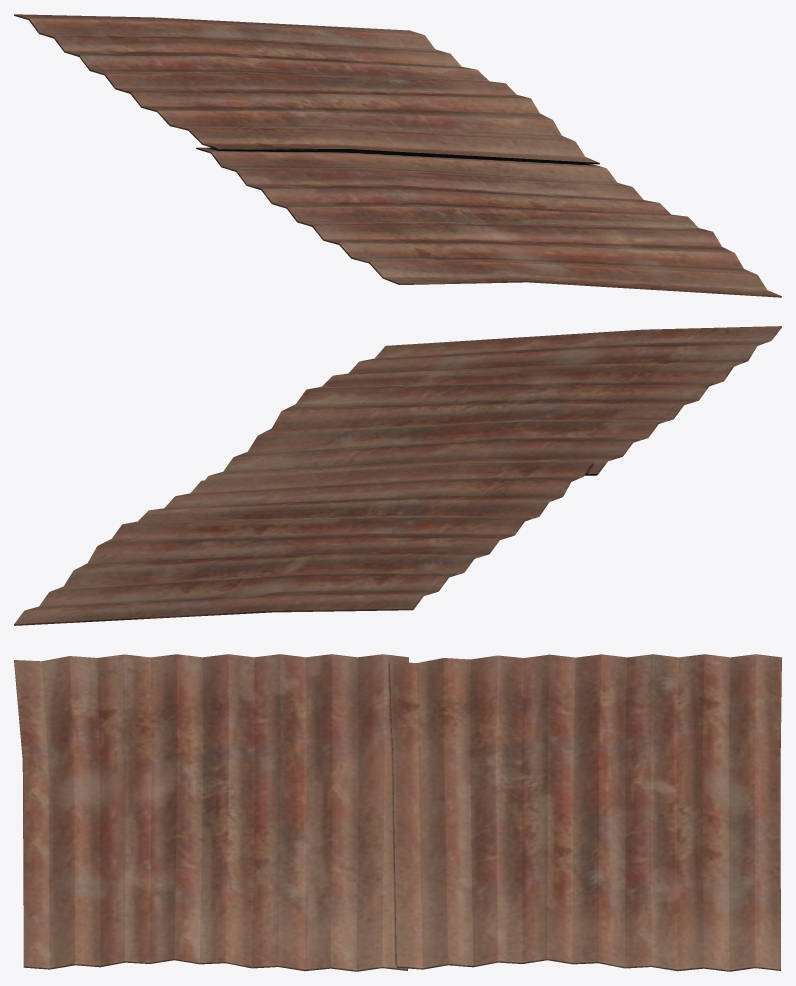
3 views of the same model, one above another, from view 1: azimuth 30°, elevation 25°; view 2: azimuth 150°, elevation 25°; view 3: azimuth 270°, elevation 25° (orthographic). The views are drawn at different scales.
Visible parts, largest first — view 1: Object_52; view 2: Object_52; view 3: Object_52.
Part boxes in pixels (x1=…): Object_52: x1=14, y1=14, x2=781, y2=297; Object_52: x1=14, y1=326, x2=781, y2=625; Object_52: x1=14, y1=654, x2=781, y2=971.
Size of the model in its own units: 3.2 by 0.9064 by 5.17.
Materials: 1 (1 with a texture image).
